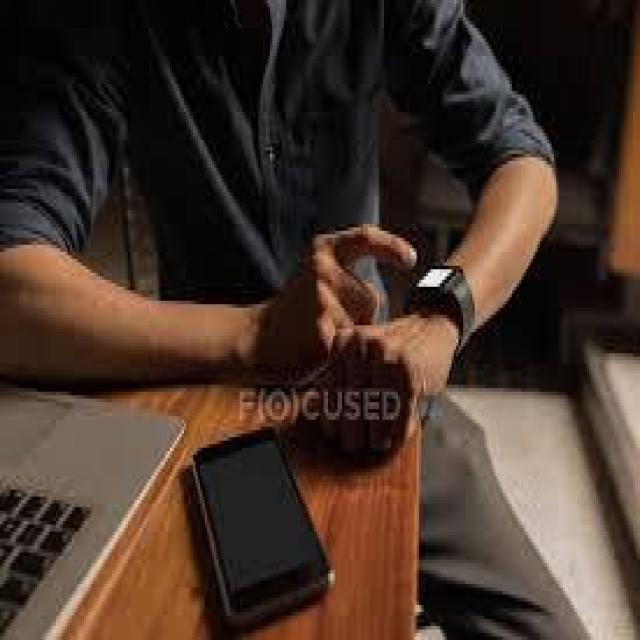smart phone: (0, 380, 187, 640), (187, 428, 337, 634)
